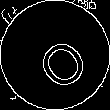O_NW: (22, 22, 88, 88)
